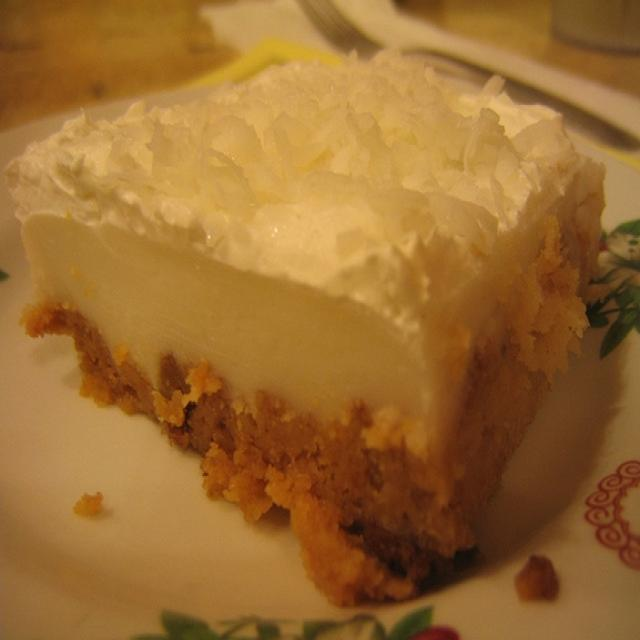蛋糕甜品: (23, 28, 606, 571)
